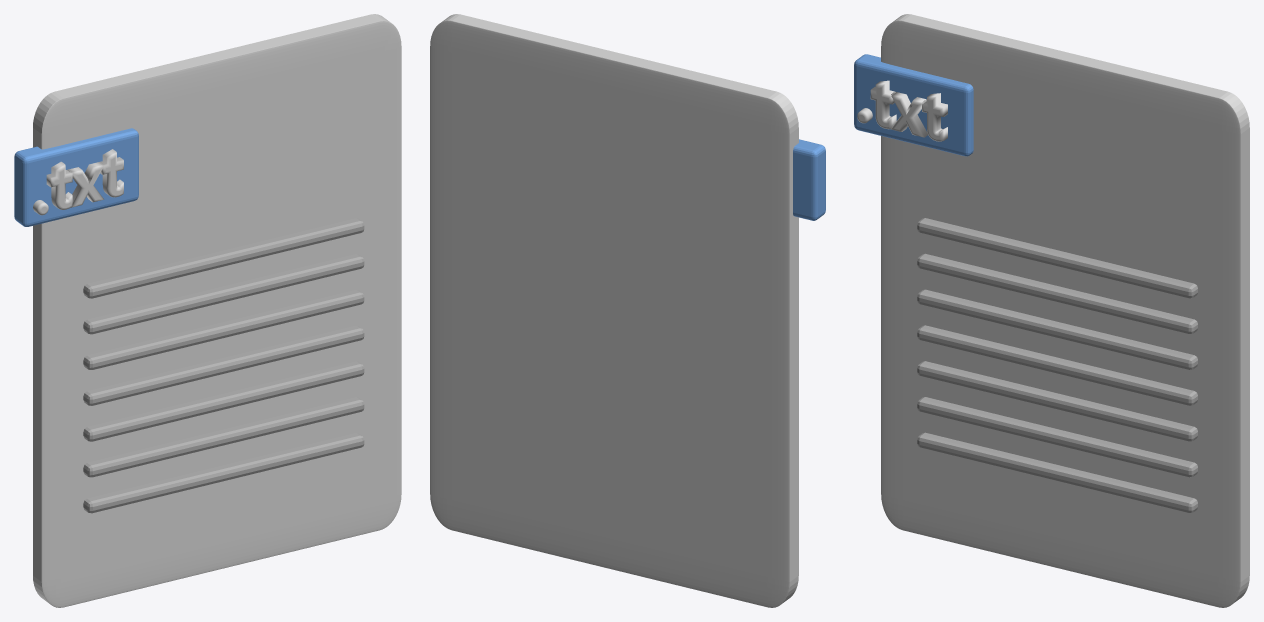
Rendered from txt.glb.
The picture shows the model from 3 angles, left to right: view 1: azimuth 30°, elevation 25°; view 2: azimuth 150°, elevation 25°; view 3: azimuth 330°, elevation 25°; orthographic projection.
Parts seen in each view (by area): view 1: Cube.002, Lines.002, textbox.002, Text.002; view 2: Cube.002, textbox.002; view 3: Cube.002, Lines.002, textbox.002, Text.002.
Boxes of the visible parts, bbox=[...] form: Cube.002: bbox=[33, 14, 401, 607]; Lines.002: bbox=[83, 218, 364, 513]; textbox.002: bbox=[14, 128, 138, 226]; Text.002: bbox=[33, 149, 123, 215]; Cube.002: bbox=[430, 14, 798, 607]; textbox.002: bbox=[793, 139, 825, 220]; Cube.002: bbox=[881, 14, 1249, 607]; Lines.002: bbox=[917, 218, 1197, 512]; textbox.002: bbox=[854, 54, 973, 156]; Text.002: bbox=[857, 80, 947, 141].
Size of the model in its own units: 2.76 by 3.51 by 0.2549.
